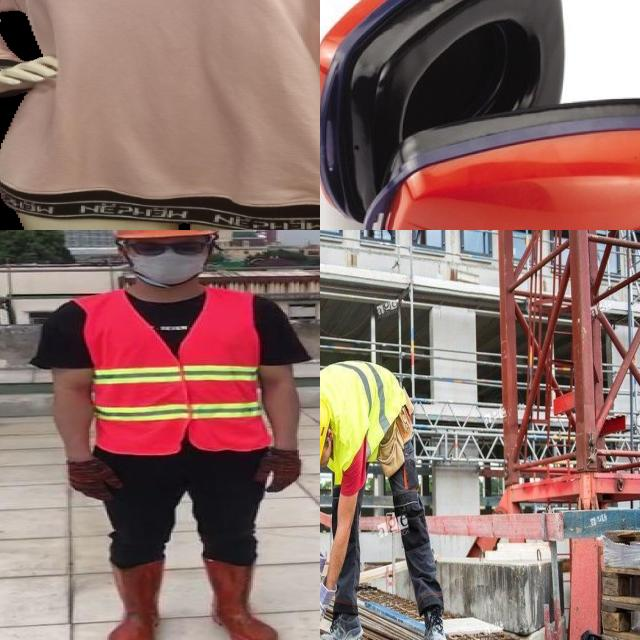Ear-protection: (320, 0, 572, 226), (356, 92, 640, 230)
boots: (206, 558, 281, 640), (108, 559, 162, 640), (320, 605, 362, 640), (416, 604, 455, 640)
hand_glove: (320, 580, 341, 624)
head_helmet: (111, 230, 223, 242), (320, 392, 332, 474)
person: (30, 230, 320, 640), (320, 359, 458, 640)
vest: (79, 294, 264, 453), (320, 360, 408, 461)
